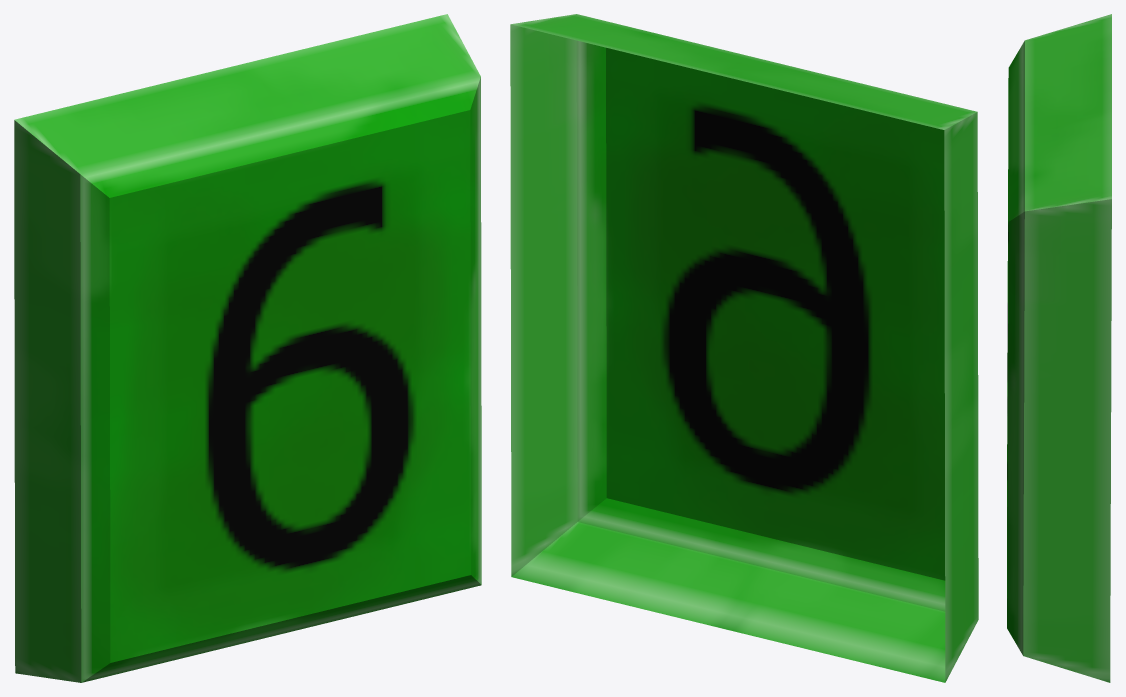
File: PadNumber_6.FBX
The picture shows the model from 3 angles, left to right: view 1: azimuth 30°, elevation 25°; view 2: azimuth 150°, elevation 25°; view 3: azimuth 270°, elevation 25°; orthographic projection. The views are drawn at different scales.
Visible parts, largest first — view 1: Pad_Number_6; view 2: Pad_Number_6; view 3: Pad_Number_6.
Part boxes in pixels (x1=…): Pad_Number_6: x1=14, y1=14, x2=481, y2=682; Pad_Number_6: x1=510, y1=14, x2=978, y2=682; Pad_Number_6: x1=1007, y1=14, x2=1111, y2=682.
Bounding box in the file's own units: 5.1 × 6.22 × 1.22.
Materials: 1 (1 with a texture image).
